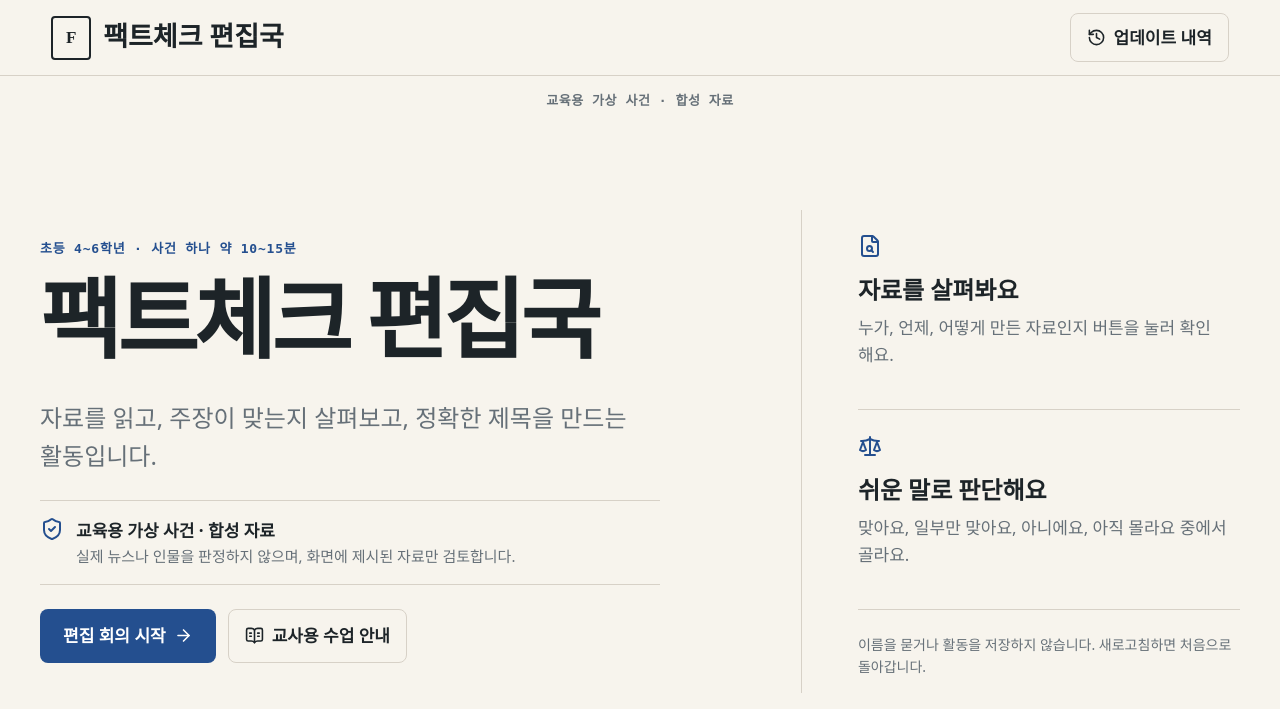
Scenario: App shell and intake › keeps opinion atoms outside truth selection
Click the button "편집 회의 시작".
click(128, 636)  # box [40,609,216,663]
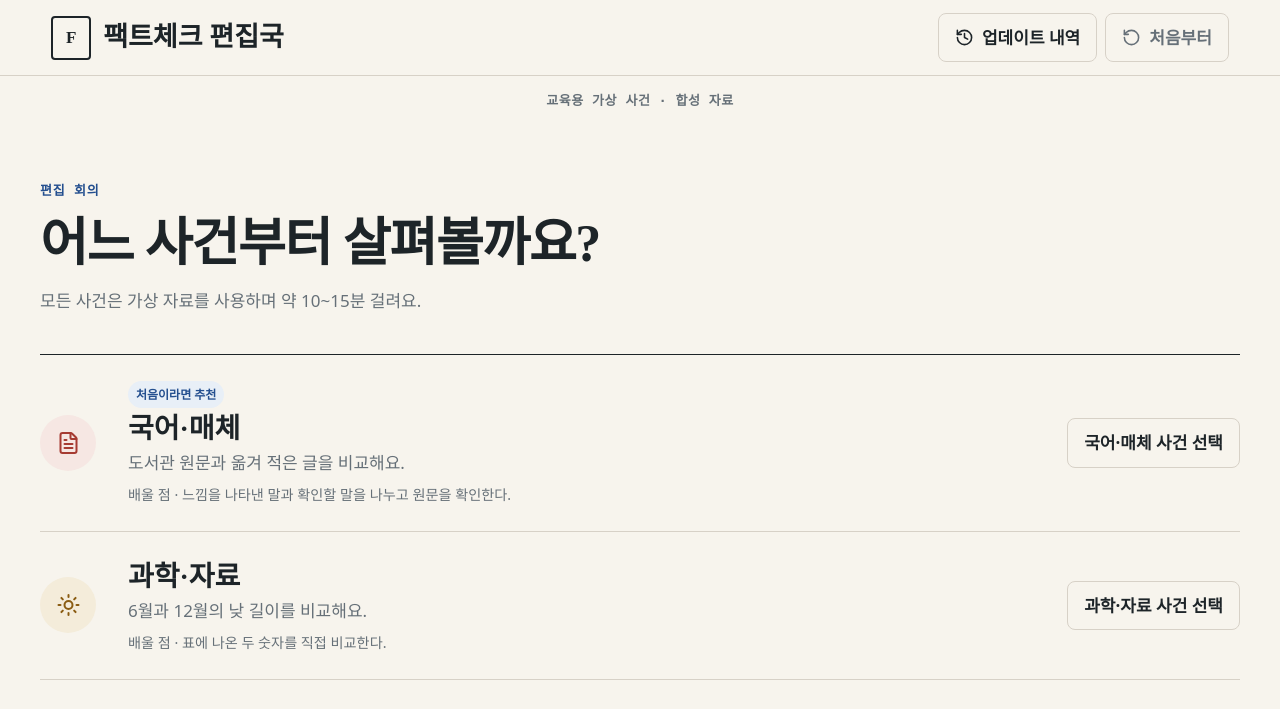
Click the button "국어·매체 사건 선택".
click(1154, 443)  # box [1067,418,1240,468]
(page scrolled)
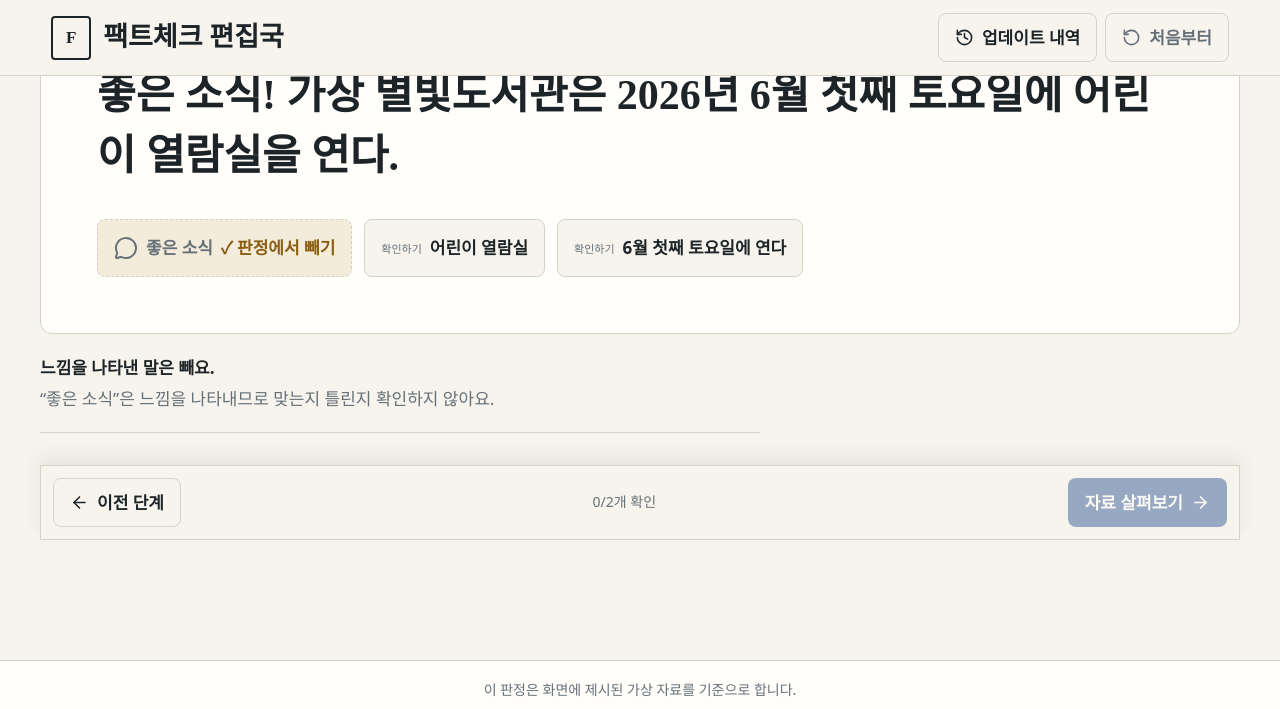
Result: the button "좋은 소식 ✓ 판정에서 빼기" is shown at [97,219,352,277]
Result: the text "“좋은 소식”은 느낌을 나타내므로 맞는지 틀린지 확인하지 않아요." is shown at [40,387,494,410]
